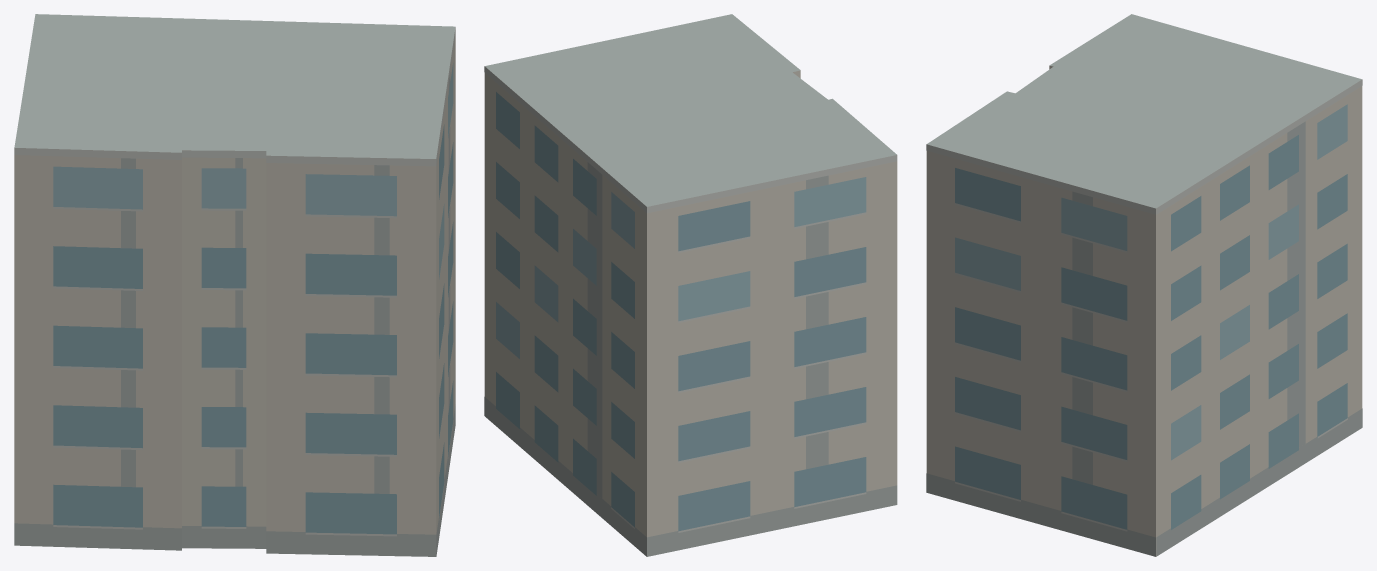
File: survey-upis-32893958.glb
3 renders of one model, left to right at view 1: azimuth 30°, elevation 25°; view 2: azimuth 150°, elevation 25°; view 3: azimuth 270°, elevation 25°, orthographic. The views are drawn at different scales.
Parts seen in each view (by area): view 1: survey-upis-32893958.tmp; view 2: survey-upis-32893958.tmp; view 3: survey-upis-32893958.tmp.
Boxes of the visible parts, x1,y1,x2,y2 form: survey-upis-32893958.tmp: (14,14,455,556); survey-upis-32893958.tmp: (484,14,897,556); survey-upis-32893958.tmp: (926,14,1362,556).
Size of the model in its own units: 16.06 by 13.4 by 15.21.
